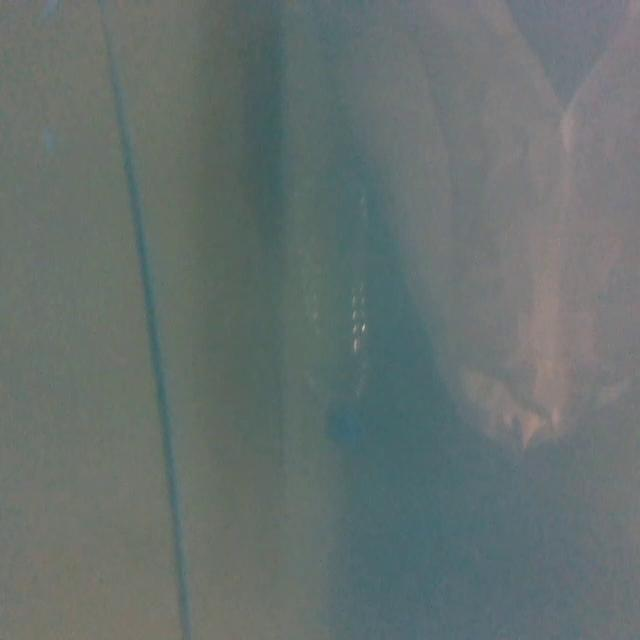plastic bags: (370, 4, 640, 452)
plastic bottle: (281, 148, 370, 450)
